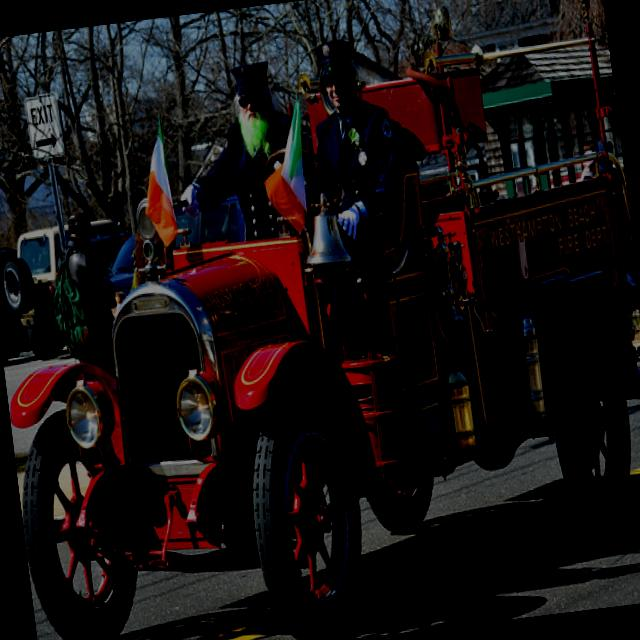Vehicle: (0, 8, 640, 640), (0, 217, 135, 365), (0, 243, 33, 362), (98, 230, 144, 294)
